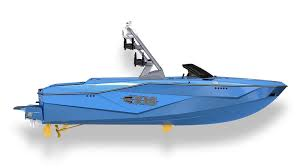boat: (14, 21, 288, 126)
